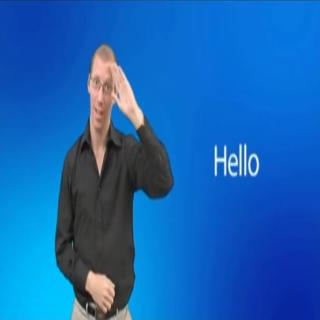Hello: (56, 39, 174, 317)
